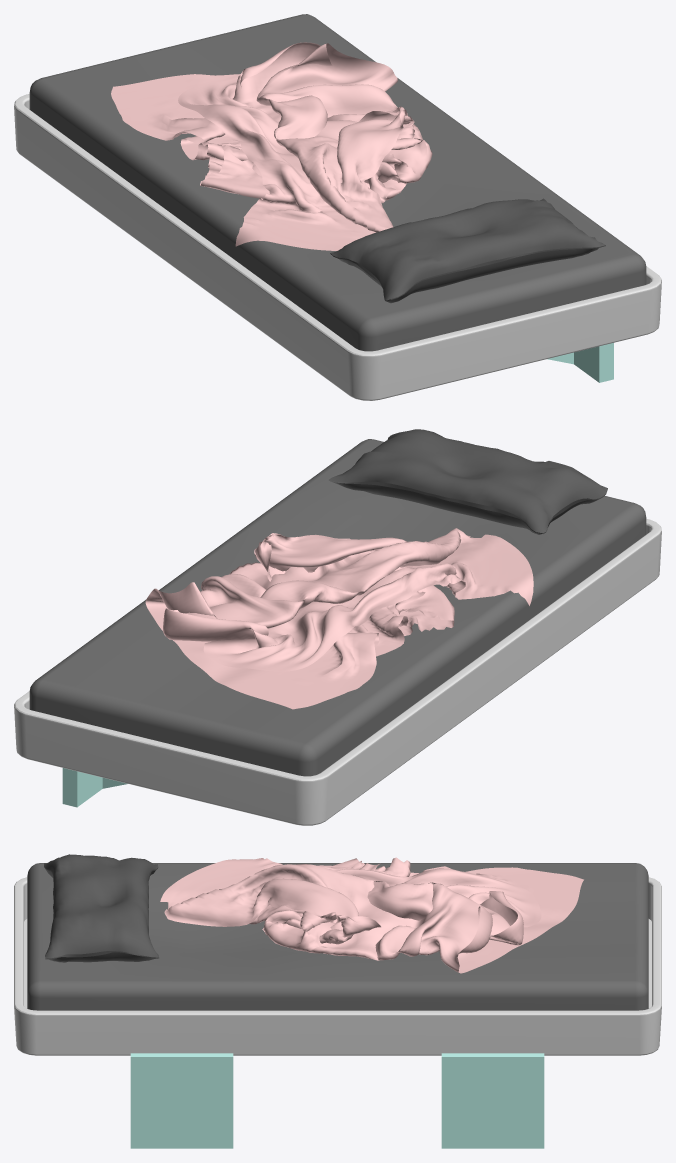
The picture shows the model from 3 angles, top to bottom: view 1: azimuth 30°, elevation 25°; view 2: azimuth 150°, elevation 25°; view 3: azimuth 270°, elevation 25°; orthographic projection. The views are drawn at different scales.
Visible parts, largest first — view 1: Bed_Mattress, Bed_Sheet_3, Bed_Frame, Bed_Pillow1, Bed_Bear_2; view 2: Bed_Mattress, Bed_Sheet_3, Bed_Frame, Bed_Pillow1, Bed_Bear_1; view 3: Bed_Mattress, Bed_Frame, Bed_Sheet_3, Bed_Pillow1, Bed_Bear_2, Bed_Bear_1.
Part boxes in pixels (x1=…): Bed_Mattress: x1=29, y1=14, x2=646, y2=351; Bed_Sheet_3: x1=111, y1=42, x2=432, y2=250; Bed_Frame: x1=14, y1=94, x2=661, y2=400; Bed_Pillow1: x1=330, y1=198, x2=605, y2=303; Bed_Bear_2: x1=547, y1=343, x2=613, y2=382; Bed_Mattress: x1=29, y1=439, x2=646, y2=776; Bed_Sheet_3: x1=145, y1=528, x2=533, y2=709; Bed_Frame: x1=14, y1=518, x2=661, y2=825; Bed_Pillow1: x1=328, y1=429, x2=607, y2=534; Bed_Bear_1: x1=62, y1=768, x2=127, y2=807; Bed_Mattress: x1=27, y1=863, x2=648, y2=1010; Bed_Frame: x1=14, y1=877, x2=661, y2=1055; Bed_Sheet_3: x1=160, y1=857, x2=583, y2=973; Bed_Pillow1: x1=44, y1=854, x2=158, y2=962; Bed_Bear_2: x1=130, y1=1053, x2=233, y2=1148; Bed_Bear_1: x1=441, y1=1053, x2=544, y2=1148.
Bounding box in the file's own units: 1.05 × 0.6916 × 2.03.
